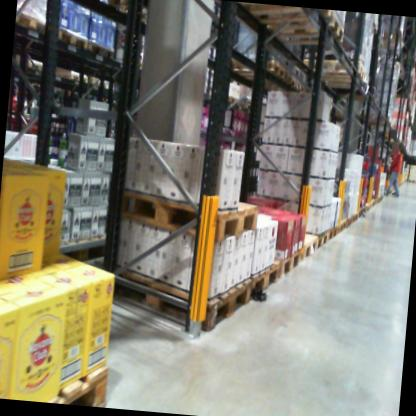pallet: (97, 248, 254, 343), (109, 179, 258, 251), (245, 7, 352, 55), (223, 1, 335, 41), (49, 223, 129, 276), (49, 364, 113, 408), (302, 54, 367, 83), (83, 0, 150, 28), (221, 54, 287, 82), (248, 256, 280, 307), (267, 245, 302, 285), (17, 8, 57, 42), (54, 23, 92, 56), (85, 36, 117, 72), (59, 57, 93, 85), (293, 231, 318, 261), (323, 223, 340, 245), (314, 228, 329, 249), (334, 215, 347, 237), (367, 20, 383, 35)
